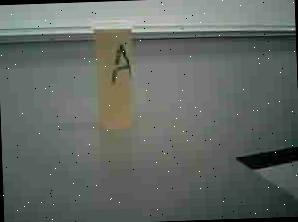Bottle A: (84, 13, 154, 142)
